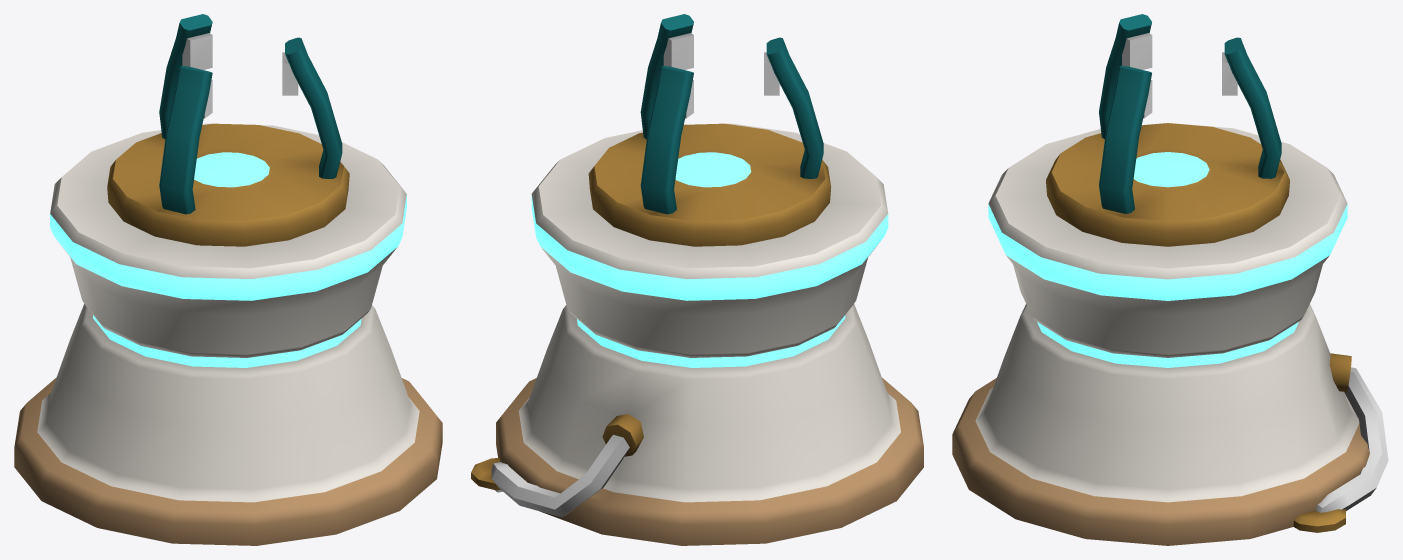
The model's file is cell_dock.fbx.
3 views of the same model, side by side, from view 1: azimuth 30°, elevation 25°; view 2: azimuth 150°, elevation 25°; view 3: azimuth 270°, elevation 25° (orthographic).
Parts seen in each view (by area): view 1: cell_dock; view 2: cell_dock; view 3: cell_dock.
Part boxes in pixels (left/top/right/bottom): cell_dock: left=14, top=14, right=442, bottom=545; cell_dock: left=471, top=14, right=923, bottom=545; cell_dock: left=952, top=14, right=1388, bottom=545.
Bounding box in the file's own units: 0.6 × 0.6478 × 0.607.
